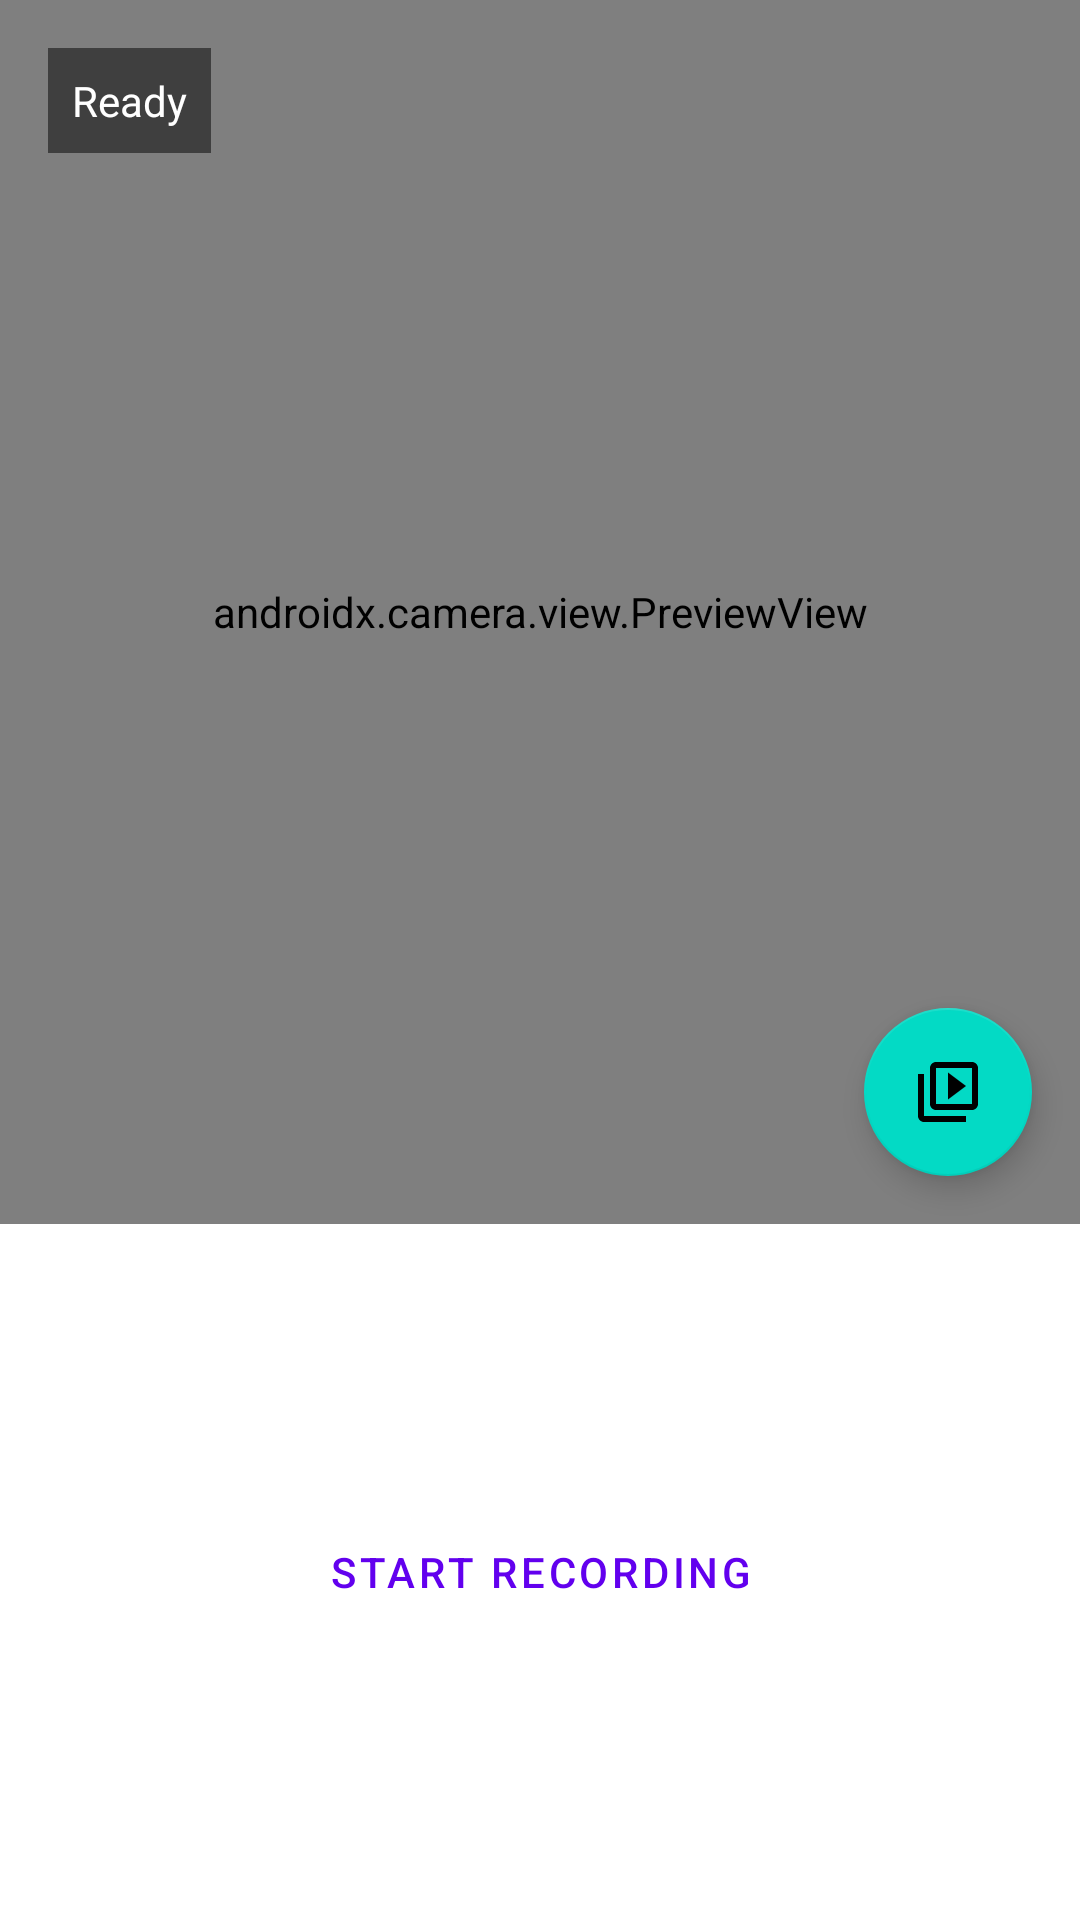

Screen size 1080w x 1920h. Icon name, then its center in pixels as (x=x, y=y):
Video Gallery: (x=948, y=1092)
